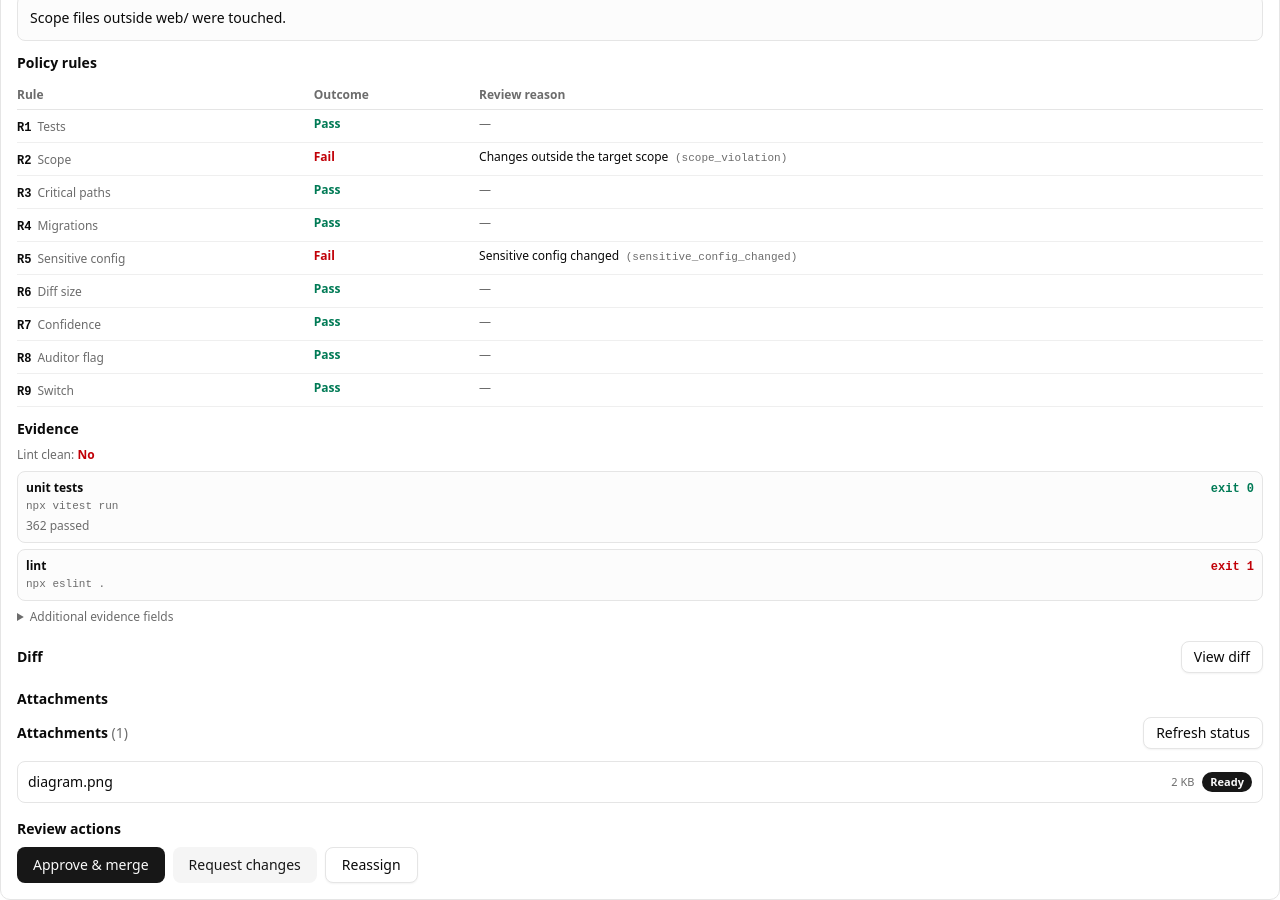
Test: ReviewPanel (MT-4.8-02) › embeds the hosted diff panel and attachment viewer instead of re-implementing
The width and height of the screenshot is (1280, 900).
(page scrolled)
Expected: the list item with test id "attachment-row" is shown, [17,761,1263,803]
Expected: the element with test id "review-attachments" is shown, [17,689,1263,803]
Click the button with test id "review-diff-toggle" at [1222, 657], box [1181,641,1263,673]
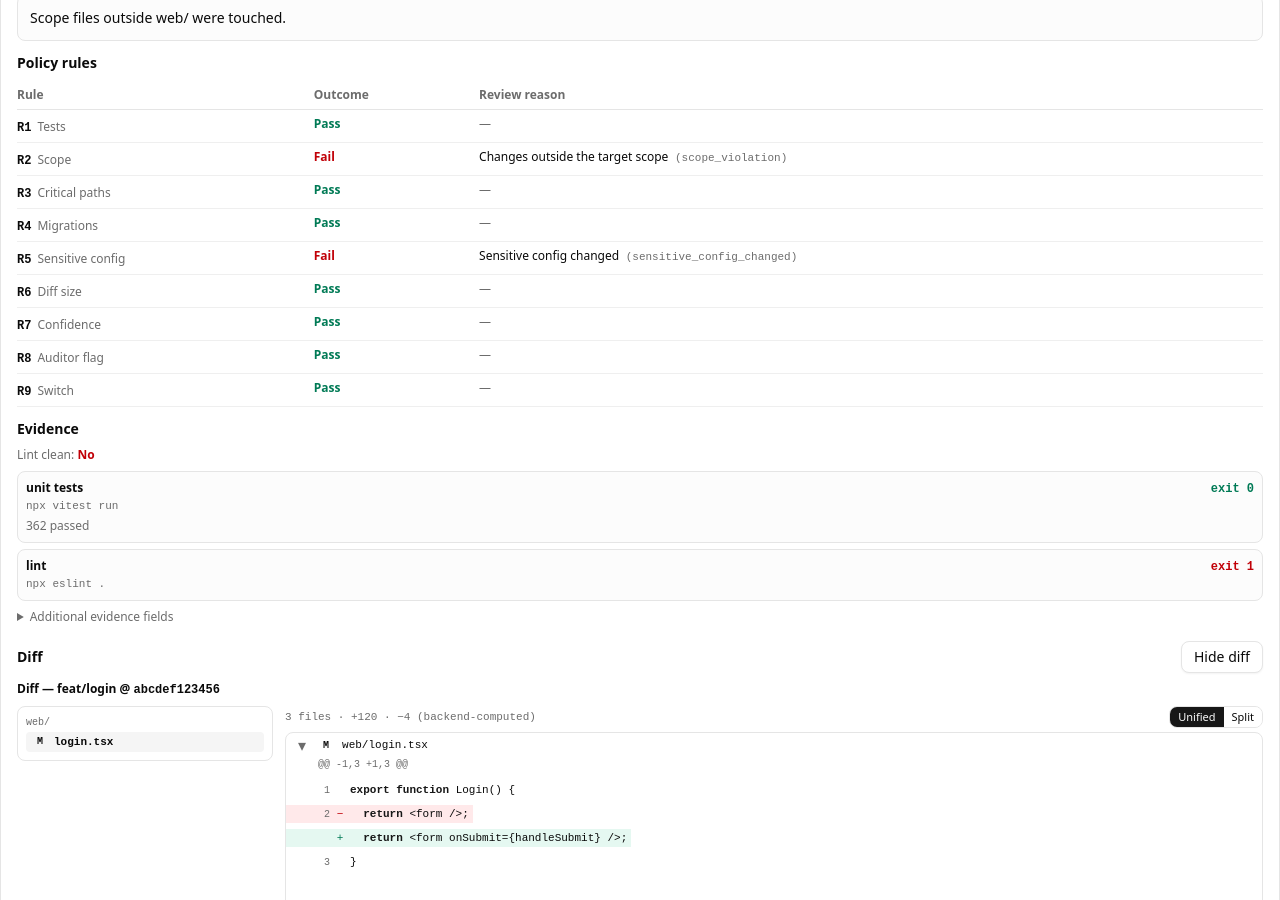
Expected: the button with test id "review-diff-toggle" is expanded, [1181,641,1263,673]
